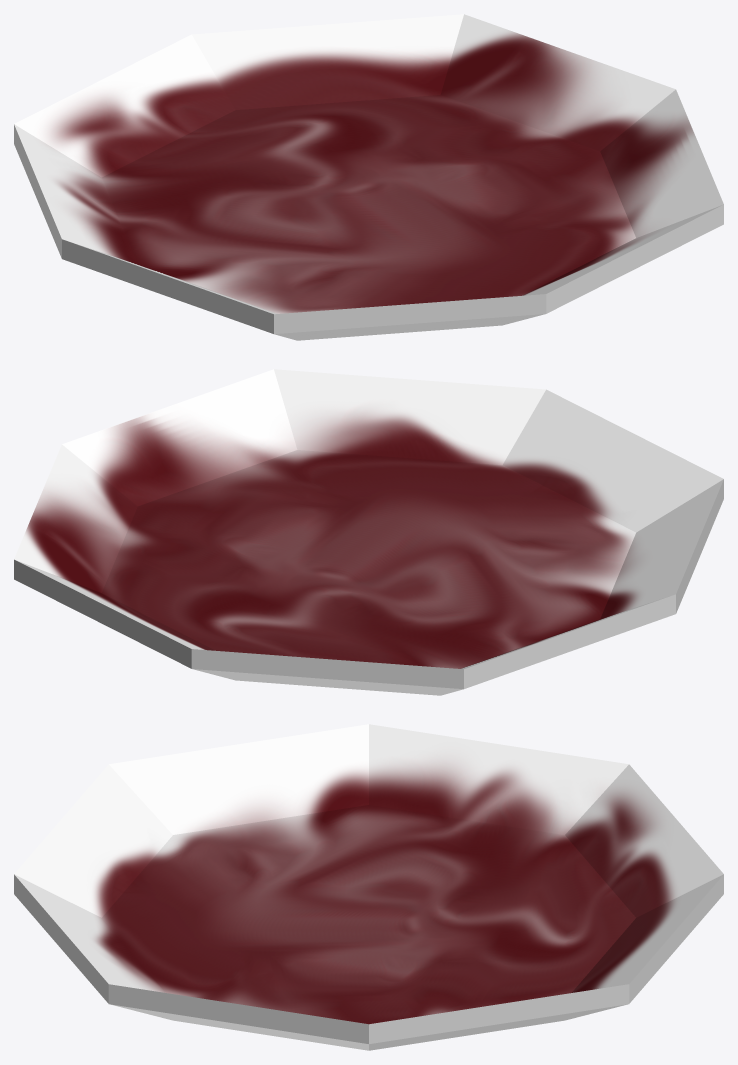
The model's file is plate.fbx.
3 renders of one model, top to bottom at view 1: azimuth 30°, elevation 25°; view 2: azimuth 150°, elevation 25°; view 3: azimuth 270°, elevation 25°, orthographic.
Visible parts, largest first — view 1: Plane; view 2: Plane; view 3: Plane.
Boxes of the visible parts, <box> form: Plane: <box>14,14,723,340</box>; Plane: <box>14,369,723,695</box>; Plane: <box>14,724,723,1050</box>.
Bounding box in the file's own units: 88.5 × 8.75 × 88.5.
